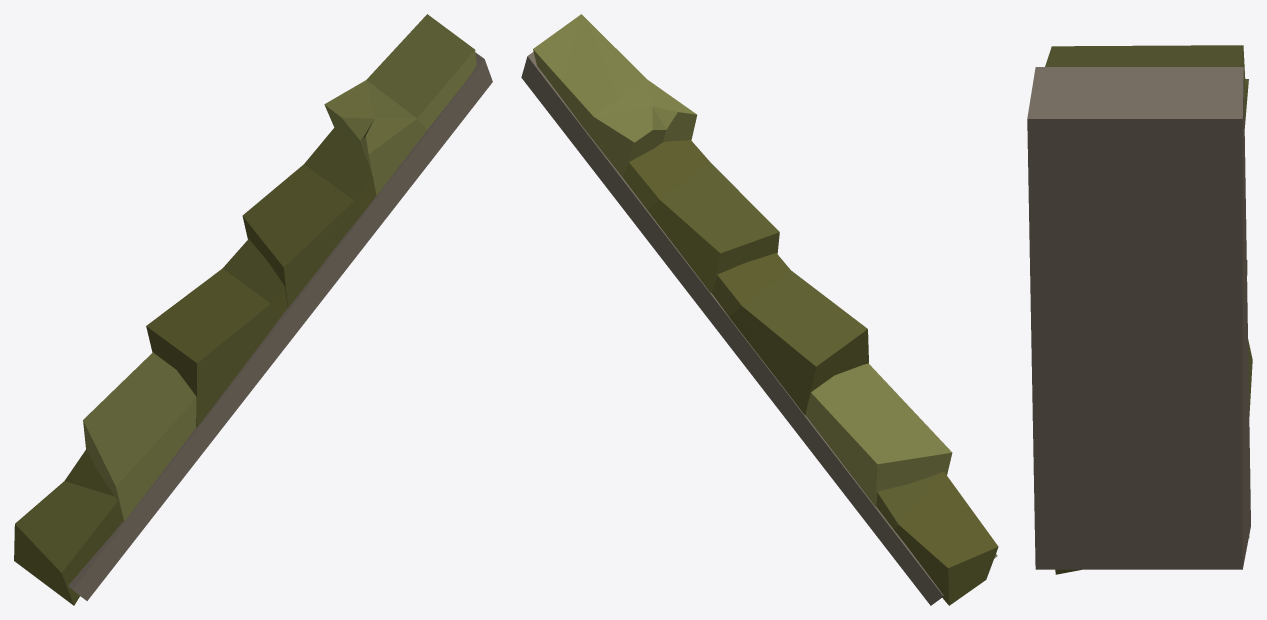
File: _ROOF_TILE_BIG_01_1.fbx
The picture shows the model from 3 angles, left to right: view 1: azimuth 30°, elevation 25°; view 2: azimuth 150°, elevation 25°; view 3: azimuth 270°, elevation 25°; orthographic projection. The views are drawn at different scales.
Parts seen in each view (by area): view 1: ROOF_TILE_BIG_01_1; view 2: ROOF_TILE_BIG_01_1; view 3: ROOF_TILE_BIG_01_1.
Part boxes in pixels (<box>): ROOF_TILE_BIG_01_1: <box>14,14,492,605</box>; ROOF_TILE_BIG_01_1: <box>521,14,998,605</box>; ROOF_TILE_BIG_01_1: <box>1027,45,1252,574</box>.
Size of the model in its own units: 105 by 109 by 24.18.
